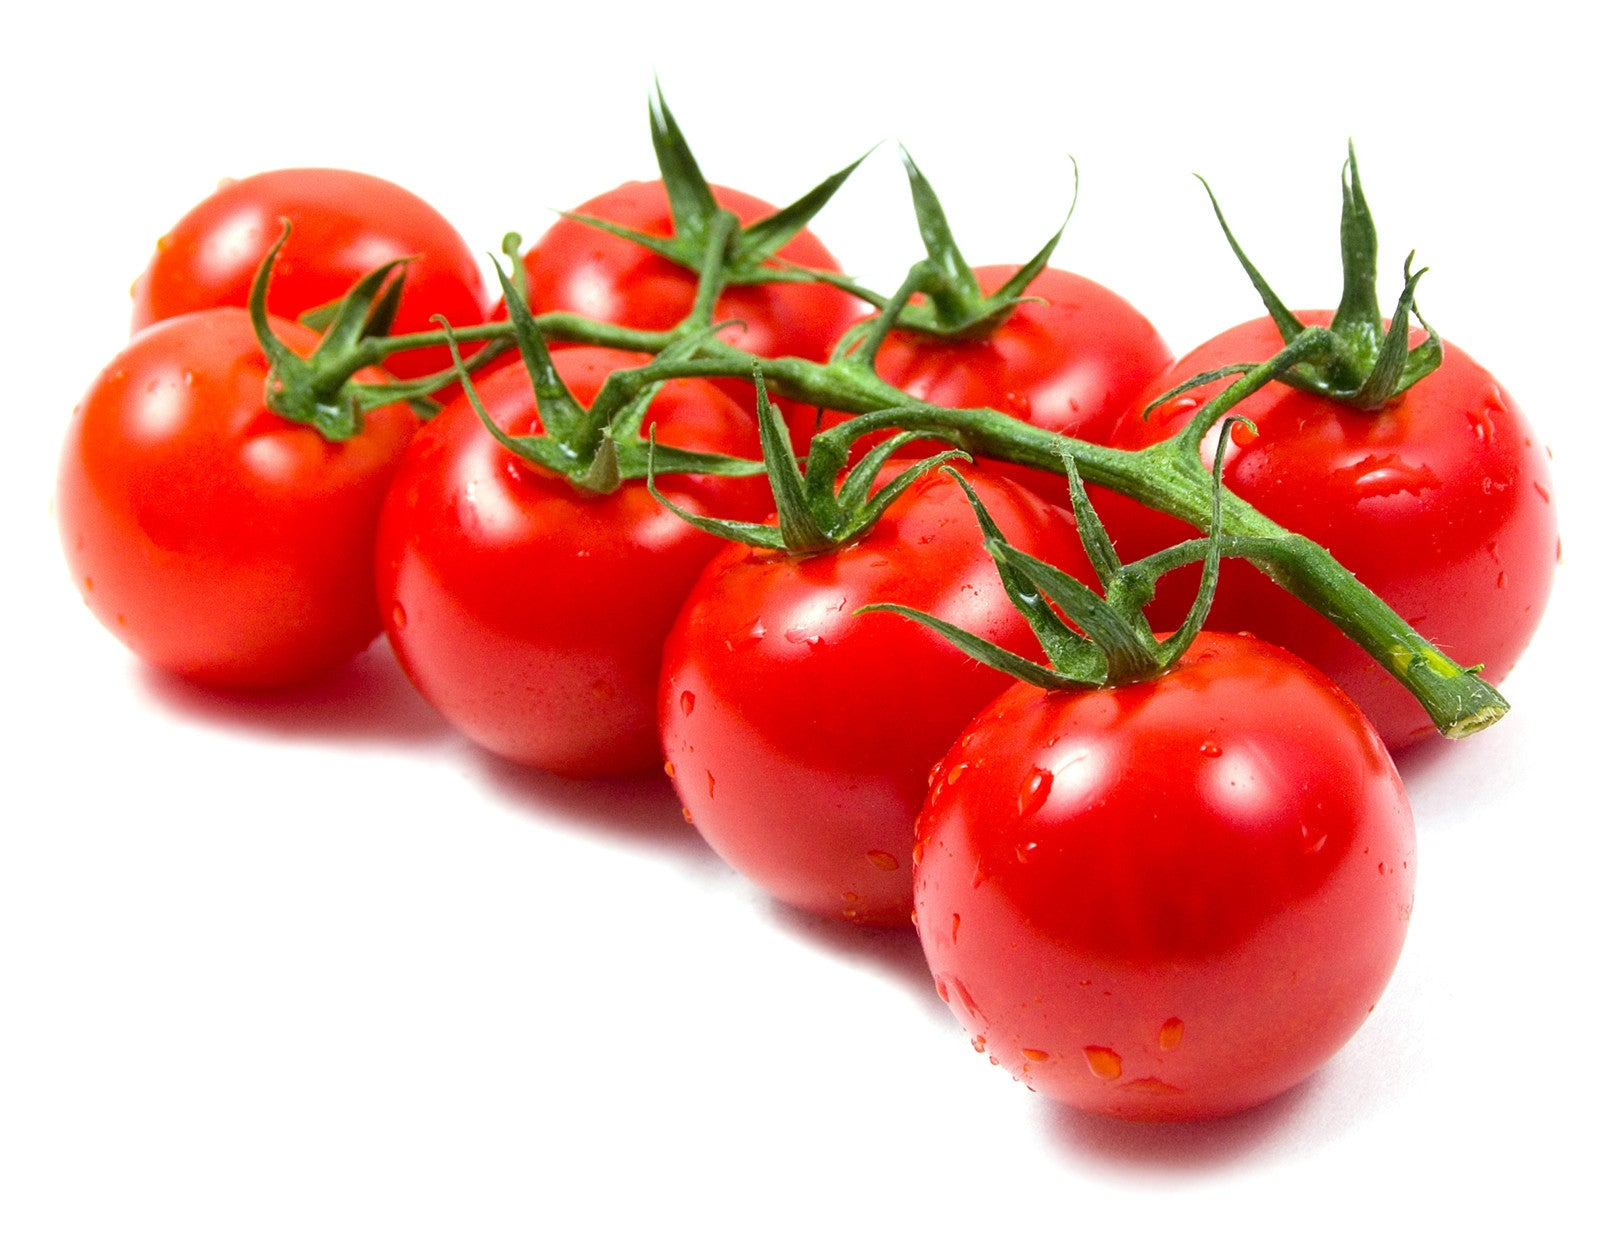Tomato: (870, 587, 1434, 1179), (657, 402, 1132, 933), (1096, 273, 1571, 780), (364, 313, 814, 824), (49, 301, 443, 748), (117, 144, 500, 466), (504, 136, 862, 450), (826, 208, 1192, 509)
